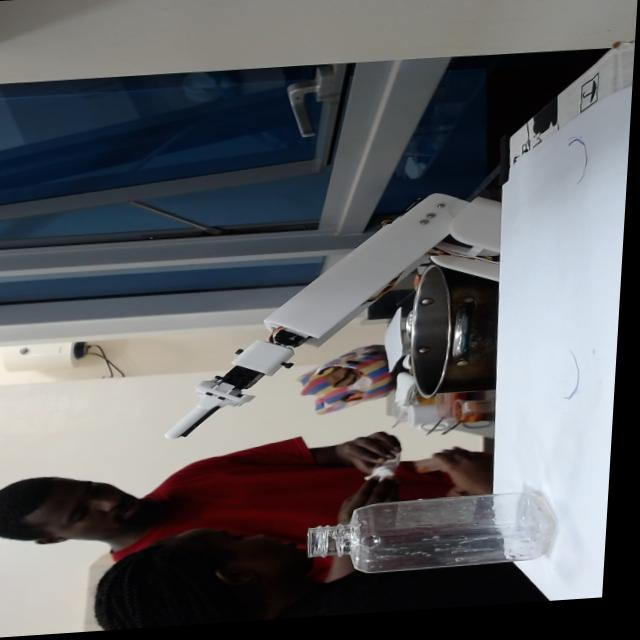cooking_pot: (412, 265, 504, 404)
